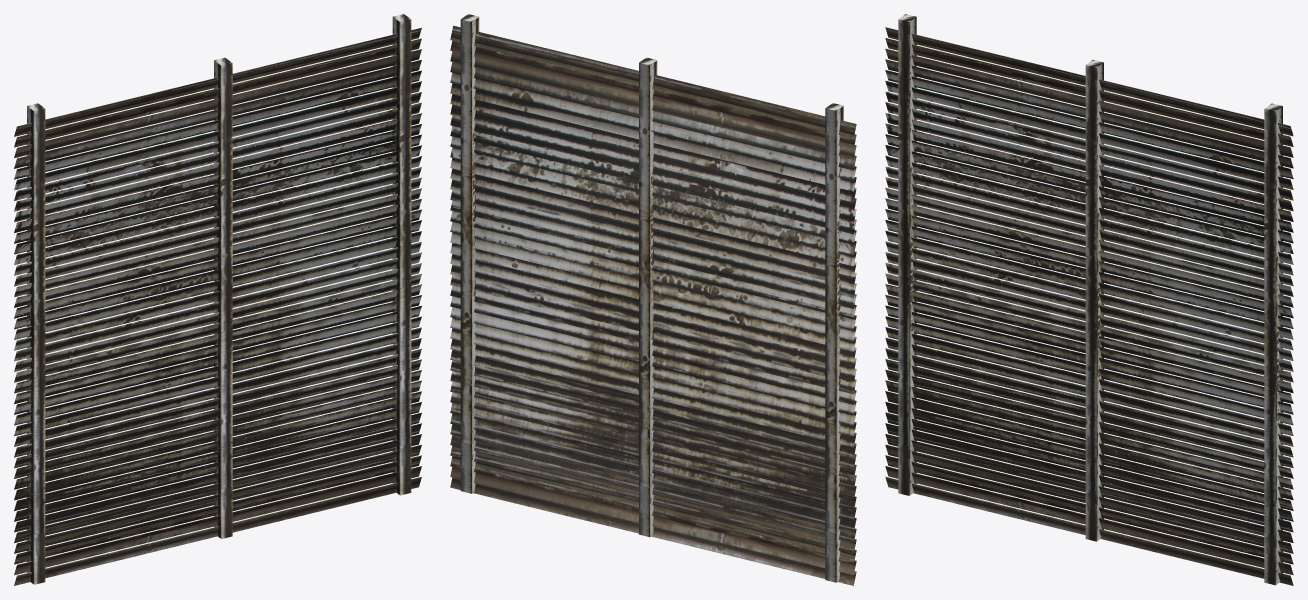
The model's file is jalousie_close.FBX.
3 renders of one model, left to right at view 1: azimuth 30°, elevation 25°; view 2: azimuth 150°, elevation 25°; view 3: azimuth 330°, elevation 25°, orthographic.
Parts seen in each view (by area): view 1: Box001; view 2: Box001; view 3: Box001.
Part boxes in pixels (x1=…): Box001: x1=14, y1=14, x2=421, y2=585; Box001: x1=450, y1=14, x2=856, y2=585; Box001: x1=885, y1=14, x2=1293, y2=585.
Bounding box in the file's own units: 86.81 × 97.29 × 2.76.
